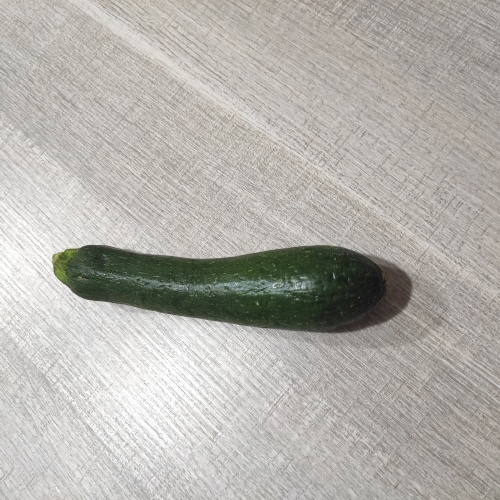zucchine: (49, 237, 398, 339)
